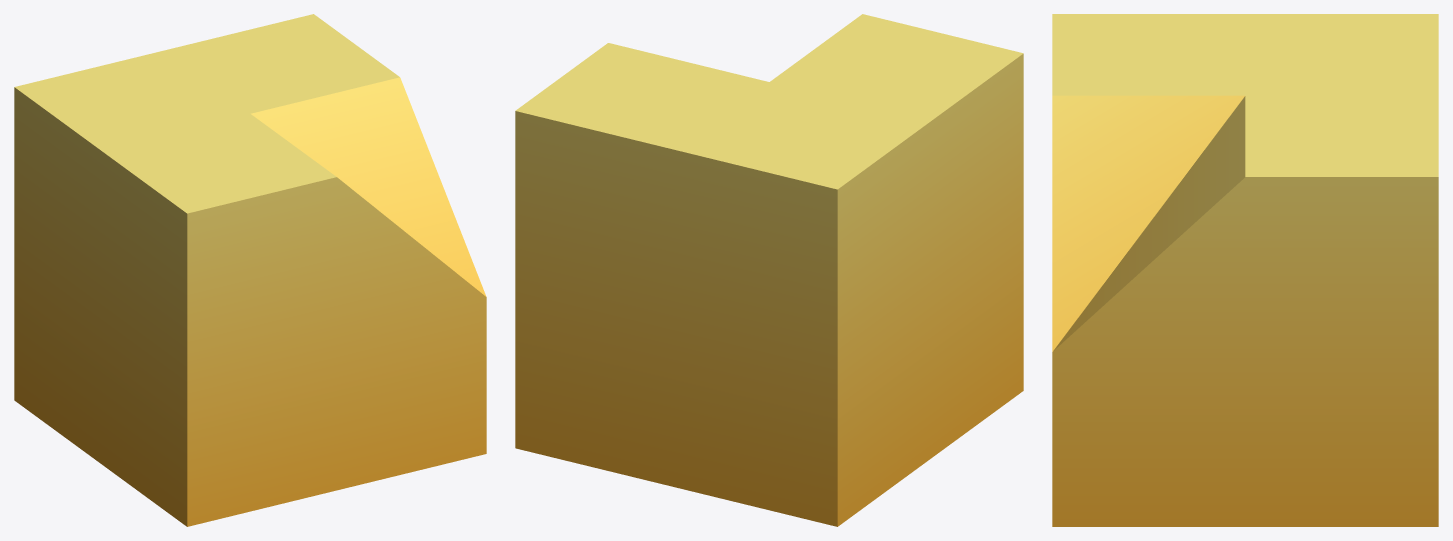
Rendered from Primitive_Slope_Half_InnerCorner.glb.
3 views of the same model, side by side, from view 1: azimuth 30°, elevation 25°; view 2: azimuth 150°, elevation 25°; view 3: azimuth 270°, elevation 25° (orthographic). The views are drawn at different scales.
Parts seen in each view (by area): view 1: Primitive_Slope_Half_InnerCorner; view 2: Primitive_Slope_Half_InnerCorner; view 3: Primitive_Slope_Half_InnerCorner.
Boxes of the visible parts, x1=… form: Primitive_Slope_Half_InnerCorner: x1=14, y1=14, x2=486, y2=526; Primitive_Slope_Half_InnerCorner: x1=515, y1=14, x2=1023, y2=526; Primitive_Slope_Half_InnerCorner: x1=1052, y1=14, x2=1438, y2=526.
Bounding box in the file's own units: 4 × 4 × 4.
Materials: 1 (1 with a texture image).
